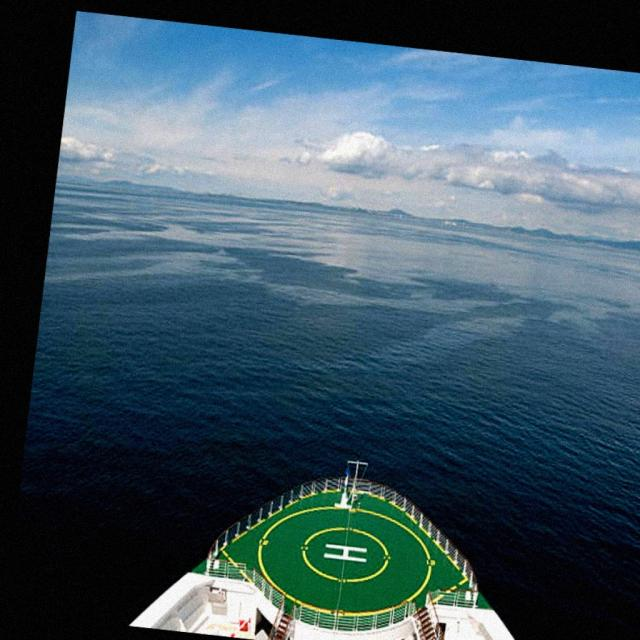helipad: (299, 522, 392, 584)
